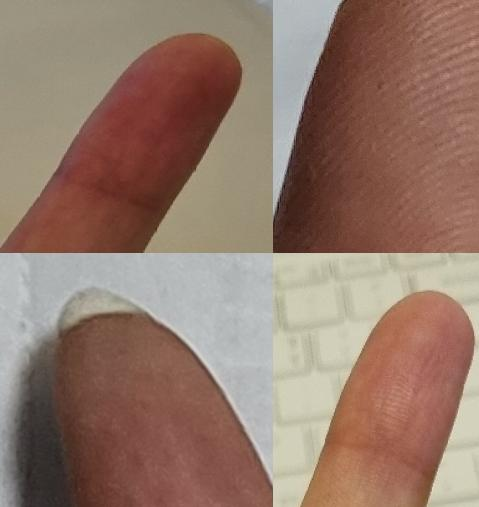Fingerprints: (273, 0, 479, 253), (53, 310, 273, 507), (53, 33, 243, 213), (326, 290, 475, 482)
